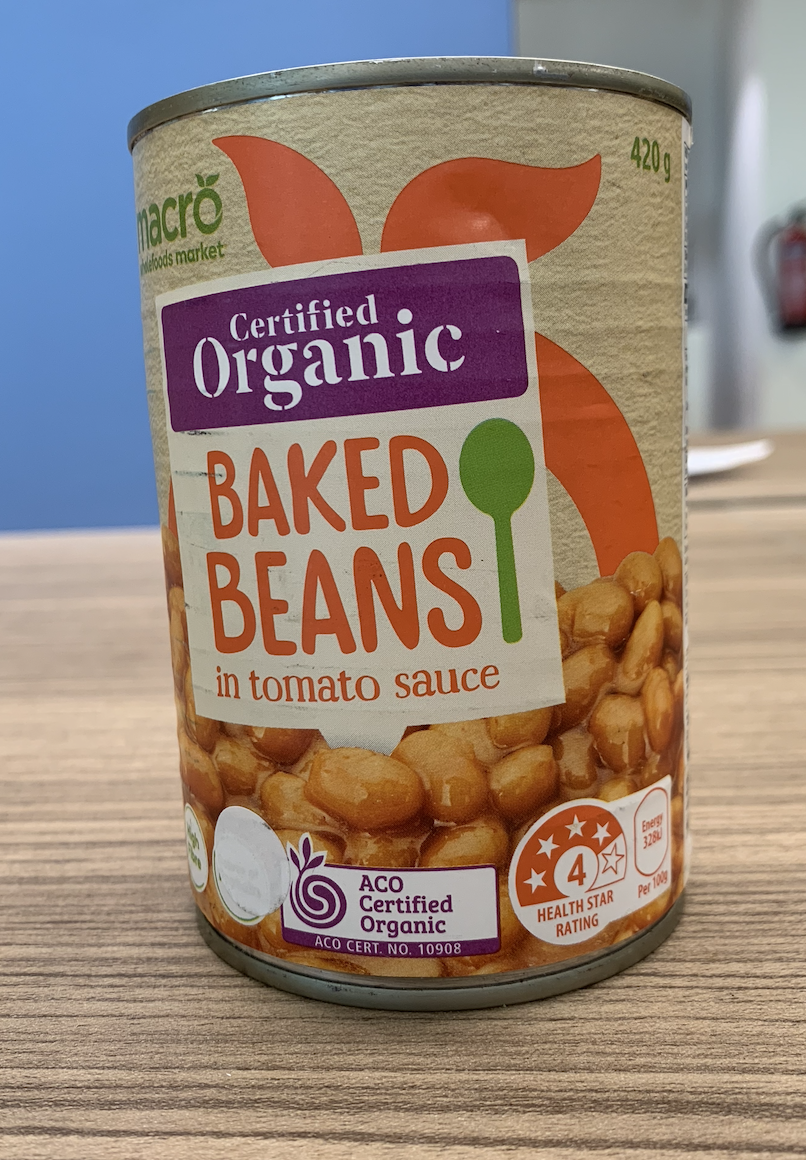Baked beans_450g: (176, 141, 678, 952)
